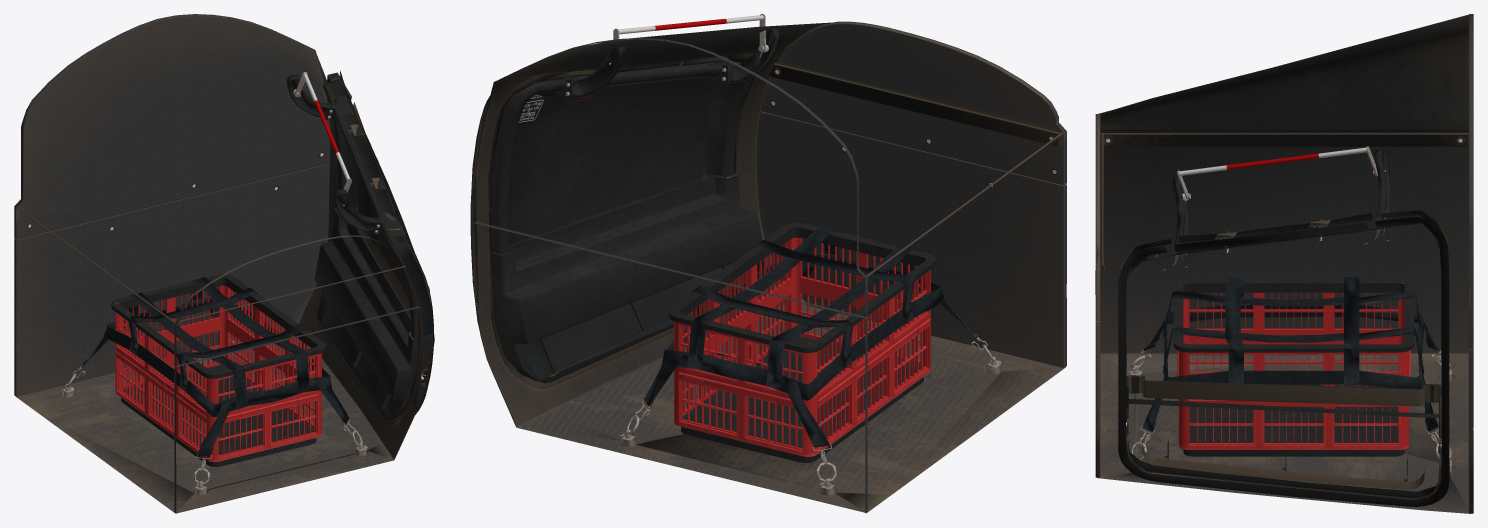
The model's file is Tecnam2012_Front_Baggage_LOD01.gltf.
The picture shows the model from 3 angles, left to right: view 1: azimuth 30°, elevation 25°; view 2: azimuth 150°, elevation 25°; view 3: azimuth 270°, elevation 25°; orthographic projection. The views are drawn at different scales.
Visible parts, largest first — view 1: FB_Cube.014, FB_Cube.013, FB_Cube.010, FB_Cube.009, FB_Cube.017, FB_Cube.005, FB_Cube.019, FB_Cube.018, FB_Cube.011, FB_Cube.015, FB_Circle.026, Front_baggage_handle_inside.001 (+2 smaller); view 2: FB_Cube.010, FB_Cube.011, FB_Cube.009, FB_Cube.017, FB_Cube.019, FB_Cube.012, FB_Cube.005, FB_Cube.015, FB_Cube.018, FB_Cube.013, FB_Cube.014, FB_Circle.029 (+2 smaller); view 3: FB_Cube.010, FB_Cube.009, FB_Cube.018, FB_Cube.005, FB_Cube.017, FB_Cube.015, FB_Cube.019, FB_Cube.014, Front_baggage_handle_inside.001, FB_Cube.012, FB_Cube.013, FB_Cube.011 (+2 smaller).
Boxes of the visible parts, bbox=[...] form: FB_Cube.014: bbox=[14, 14, 330, 239]; FB_Cube.013: bbox=[14, 163, 329, 396]; FB_Cube.010: bbox=[15, 55, 423, 513]; FB_Cube.009: bbox=[111, 274, 325, 467]; FB_Cube.017: bbox=[314, 208, 431, 420]; FB_Cube.005: bbox=[81, 277, 349, 456]; FB_Cube.019: bbox=[320, 79, 433, 414]; FB_Cube.018: bbox=[319, 71, 434, 425]; FB_Cube.011: bbox=[174, 306, 419, 513]; FB_Cube.015: bbox=[16, 207, 405, 323]; FB_Circle.026: bbox=[333, 189, 382, 232]; Front_baggage_handle_inside.001: bbox=[294, 72, 351, 192]; FB_Cube.010: bbox=[476, 22, 1065, 512]; FB_Cube.011: bbox=[756, 111, 1066, 367]; FB_Cube.009: bbox=[669, 223, 935, 462]; FB_Cube.017: bbox=[476, 173, 762, 382]; FB_Cube.019: bbox=[470, 56, 752, 379]; FB_Cube.012: bbox=[760, 21, 1066, 185]; FB_Cube.005: bbox=[644, 226, 977, 447]; FB_Cube.015: bbox=[767, 63, 1063, 276]; FB_Cube.018: bbox=[471, 53, 756, 388]; FB_Cube.013: bbox=[474, 221, 867, 513]; FB_Cube.014: bbox=[493, 38, 867, 317]; FB_Circle.029: bbox=[566, 46, 624, 97]; FB_Cube.010: bbox=[1097, 14, 1470, 513]; FB_Cube.009: bbox=[1173, 279, 1414, 456]; FB_Cube.018: bbox=[1118, 210, 1449, 506]; FB_Cube.005: bbox=[1142, 277, 1439, 432]; FB_Cube.017: bbox=[1126, 375, 1441, 499]; FB_Cube.015: bbox=[1100, 132, 1468, 265]; FB_Cube.019: bbox=[1128, 216, 1438, 489]; FB_Cube.014: bbox=[1468, 14, 1473, 349]; Front_baggage_handle_inside.001: bbox=[1177, 146, 1377, 199]; FB_Cube.012: bbox=[1095, 114, 1100, 320]; FB_Cube.013: bbox=[1468, 220, 1473, 513]; FB_Cube.011: bbox=[1095, 320, 1100, 477].
Size of what is drawn, in the model's own units: 0.9398 by 0.9414 by 0.7959.
